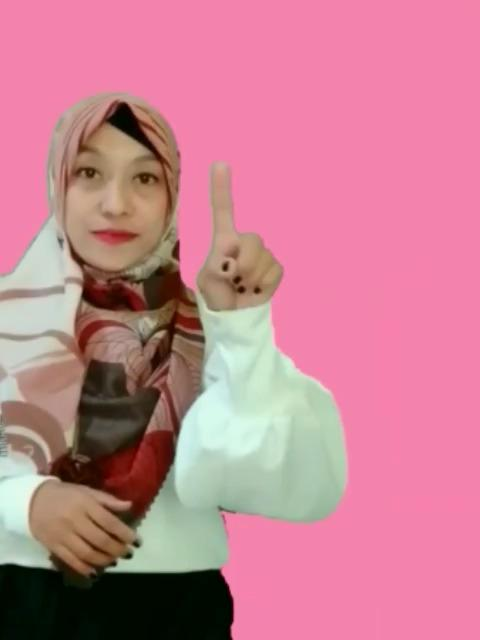Z: (192, 156, 292, 314)
